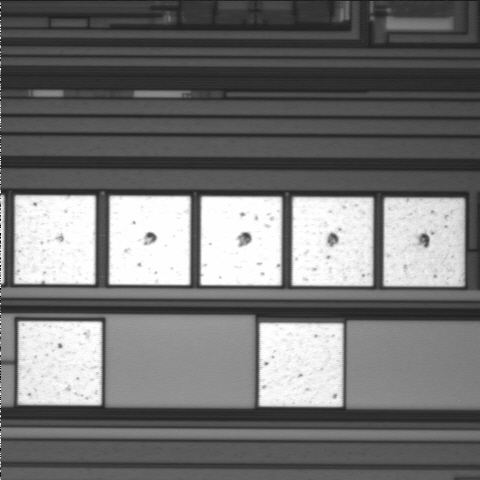pad: (200, 196, 282, 286), (14, 195, 96, 284), (109, 196, 191, 285), (292, 197, 373, 286), (18, 321, 102, 405), (259, 323, 343, 407), (384, 198, 464, 286)
